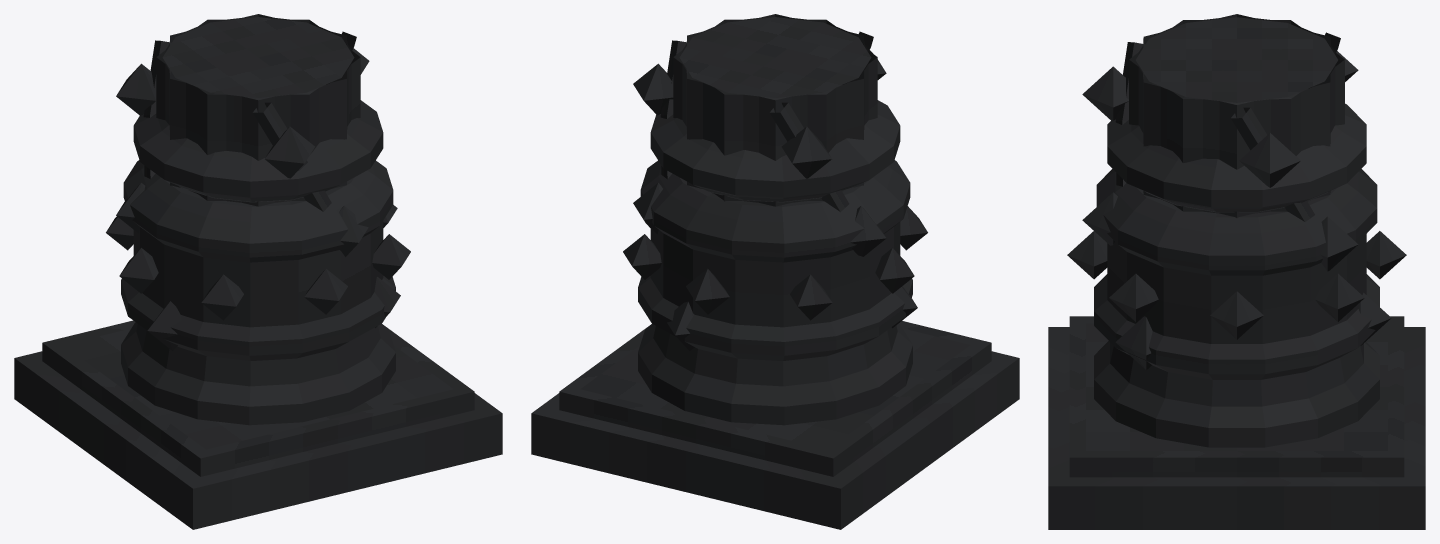
File: decopole_labroadwayrose_inv.obj
3 views of the same model, side by side, from view 1: azimuth 30°, elevation 25°; view 2: azimuth 150°, elevation 25°; view 3: azimuth 270°, elevation 25° (orthographic). The views are drawn at different scales.
Visible parts, largest first — view 1: decopole_labroadwayrose_inv; view 2: decopole_labroadwayrose_inv; view 3: decopole_labroadwayrose_inv.
Boxes of the visible parts, x1=… form: decopole_labroadwayrose_inv: x1=14, y1=14, x2=502, y2=529; decopole_labroadwayrose_inv: x1=531, y1=14, x2=1019, y2=529; decopole_labroadwayrose_inv: x1=1048, y1=14, x2=1425, y2=529.
Bounding box in the file's own units: 0.875 × 1 × 0.875.
